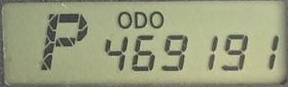1: (205, 34, 219, 71), (266, 34, 280, 70)
4: (103, 35, 128, 72)
6: (130, 33, 155, 72)
9: (159, 33, 188, 72), (219, 34, 249, 71)
X: (38, 10, 88, 73), (117, 11, 132, 29), (149, 10, 164, 28), (134, 11, 147, 28)
